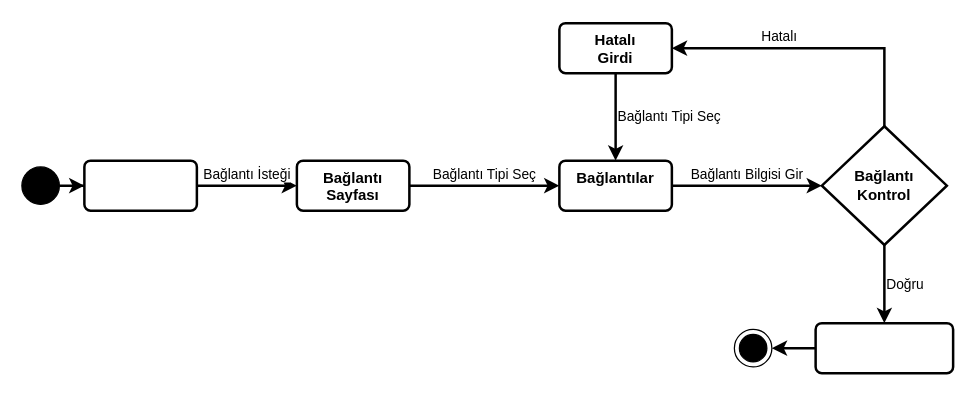
Some shapes in this 976 by 395 pixel diagram are drawn without their labels. Each missing label, with the centre of its shape:
Ana Sayfa: the point at 140,185
Bağlantı Kuruldu: the point at 884,347
